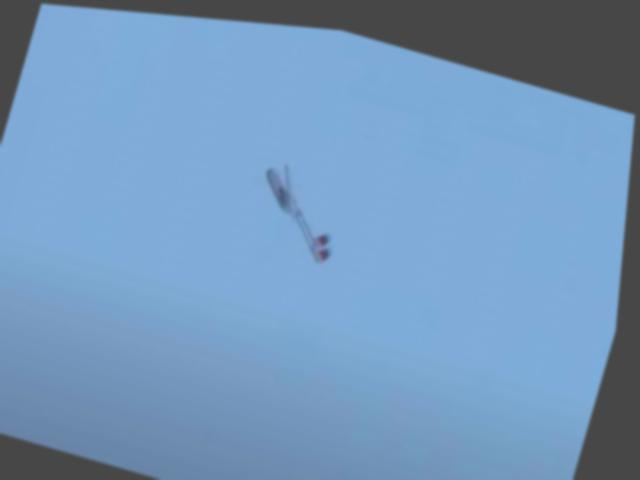iha: (242, 147, 355, 263)
